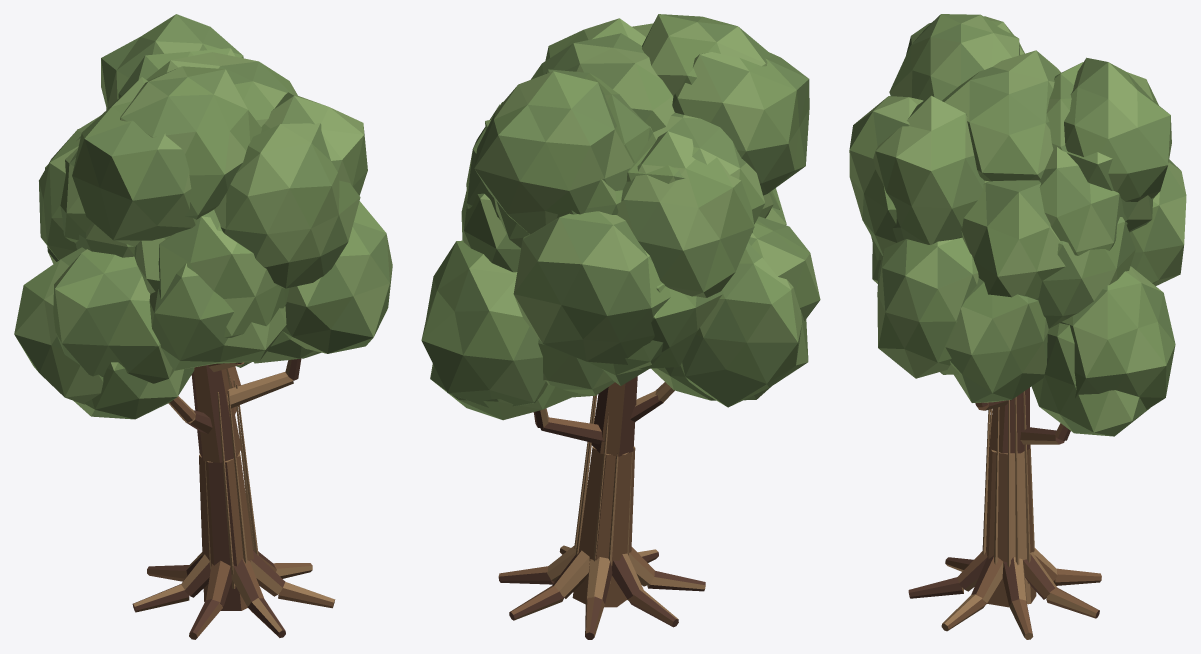
Rendered from healthy_tree_b.glb.
3 renders of one model, left to right at view 1: azimuth 30°, elevation 25°; view 2: azimuth 150°, elevation 25°; view 3: azimuth 270°, elevation 25°, orthographic. The views are drawn at different scales.
Visible parts, largest first — view 1: healthy_tree_b; view 2: healthy_tree_b; view 3: healthy_tree_b.
Boxes of the visible parts, box(x1,y1,x2,y2) form: healthy_tree_b: box(14, 14, 392, 639); healthy_tree_b: box(421, 14, 820, 639); healthy_tree_b: box(849, 14, 1186, 639).
Bounding box in the file's own units: 3.21 × 5.11 × 2.88.
